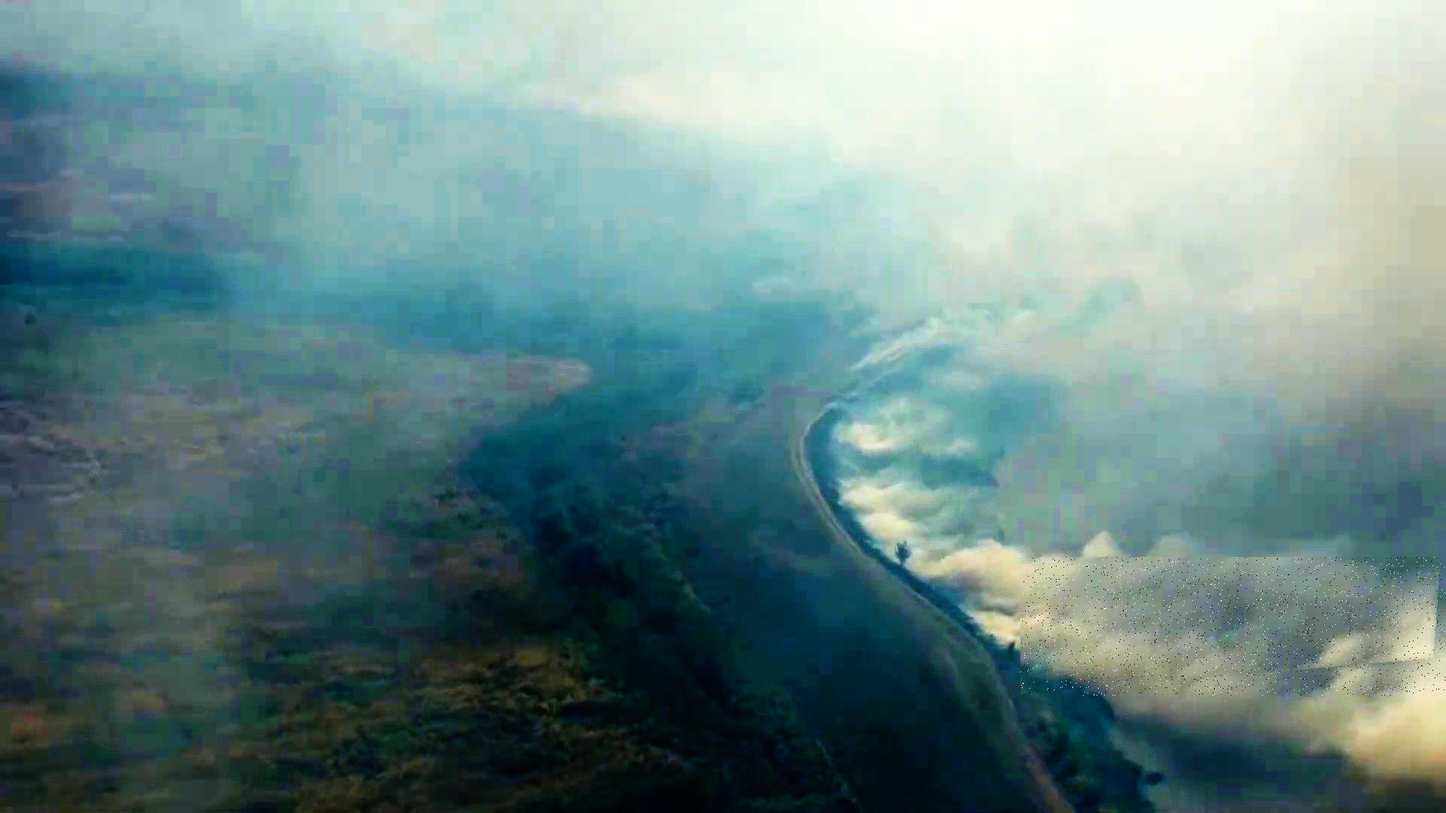smoke: (1021, 557, 1446, 696)
